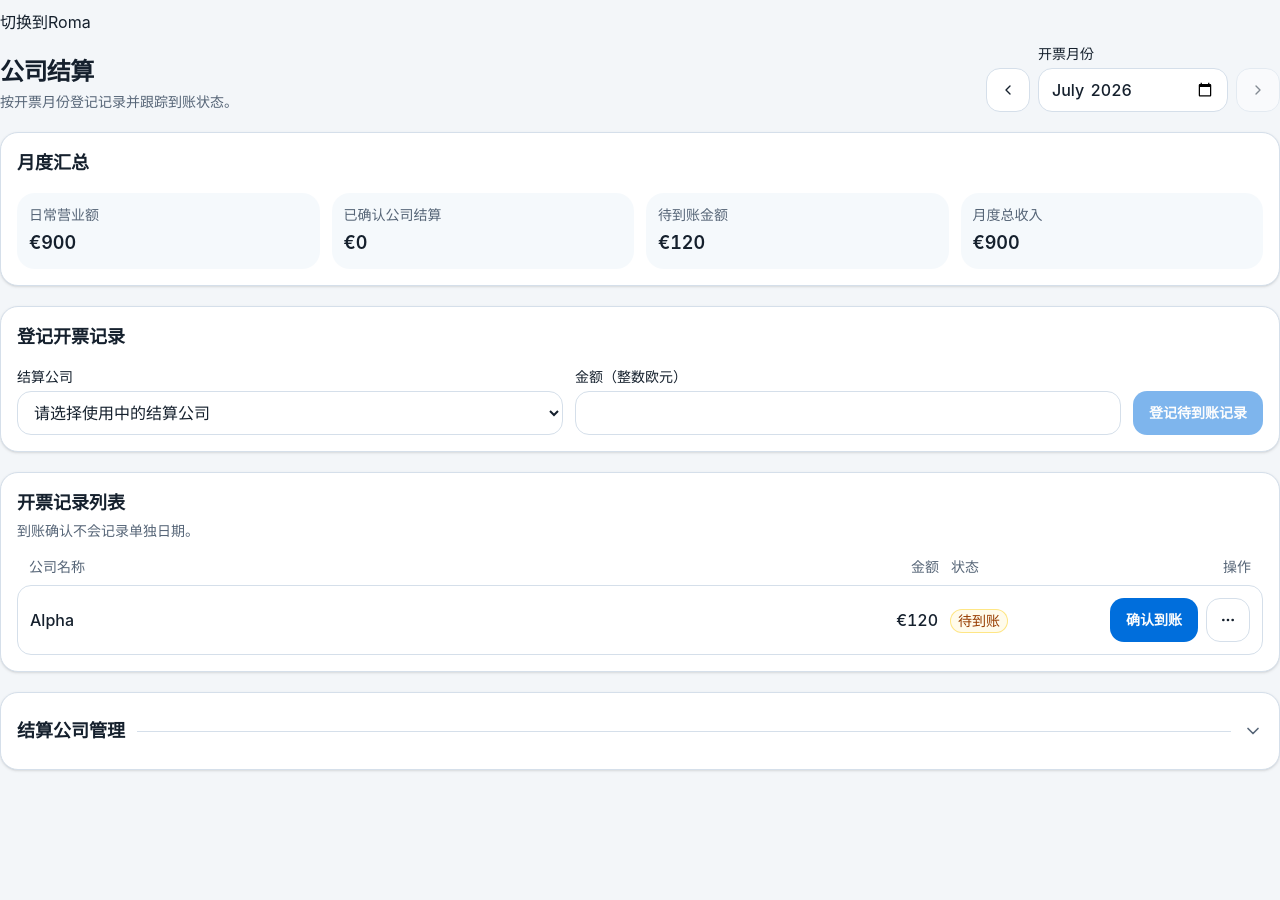
it: CompanySettlementPage record corrections › shows an already-confirmed canonical state for review without retrying confirmation
The width and height of the screenshot is (1280, 900).
Click the button with aria-label "确认Alpha开票记录到账" at (1154, 620), box [1110, 598, 1198, 642]
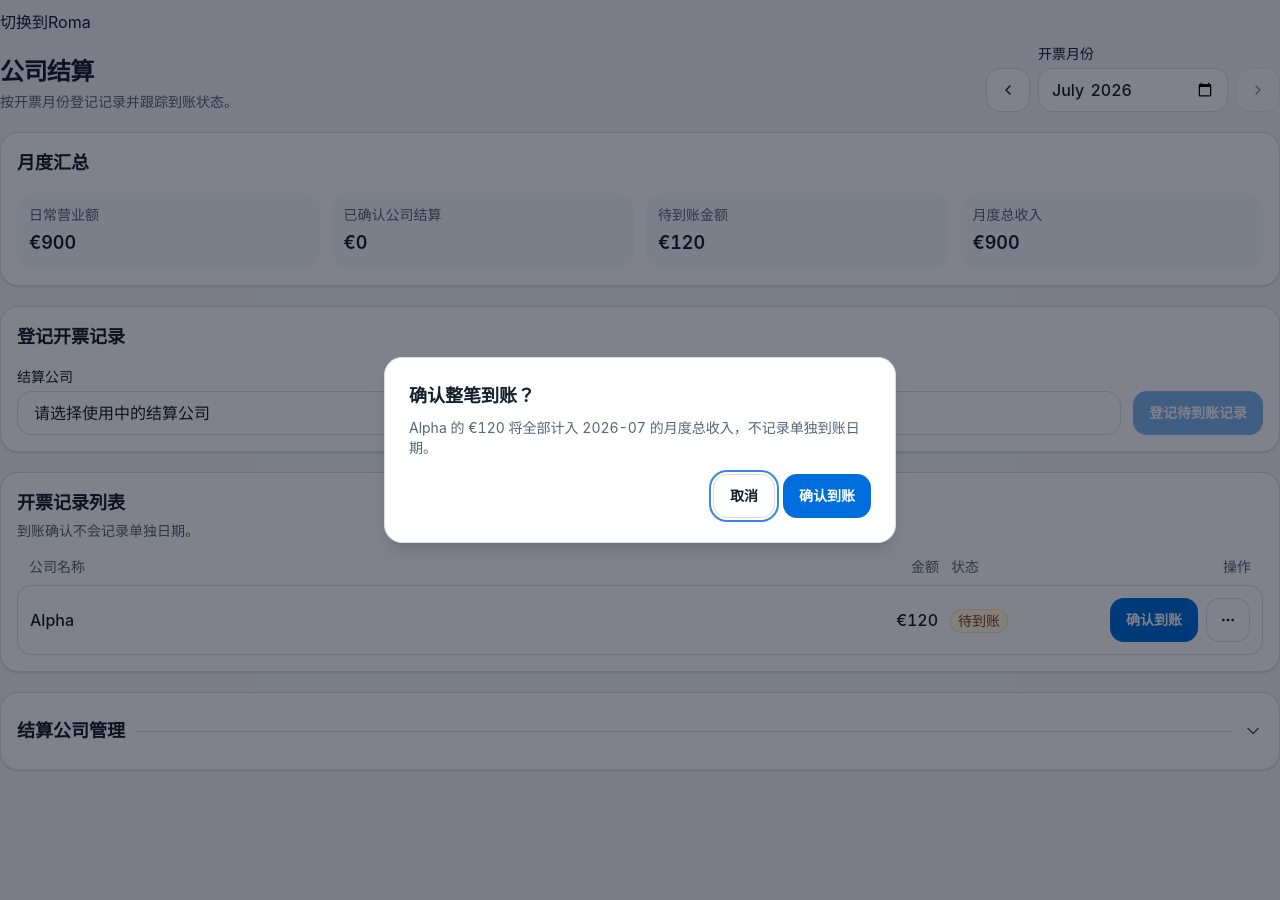
Click the button "确认到账" at (827, 496), box [783, 474, 871, 518]
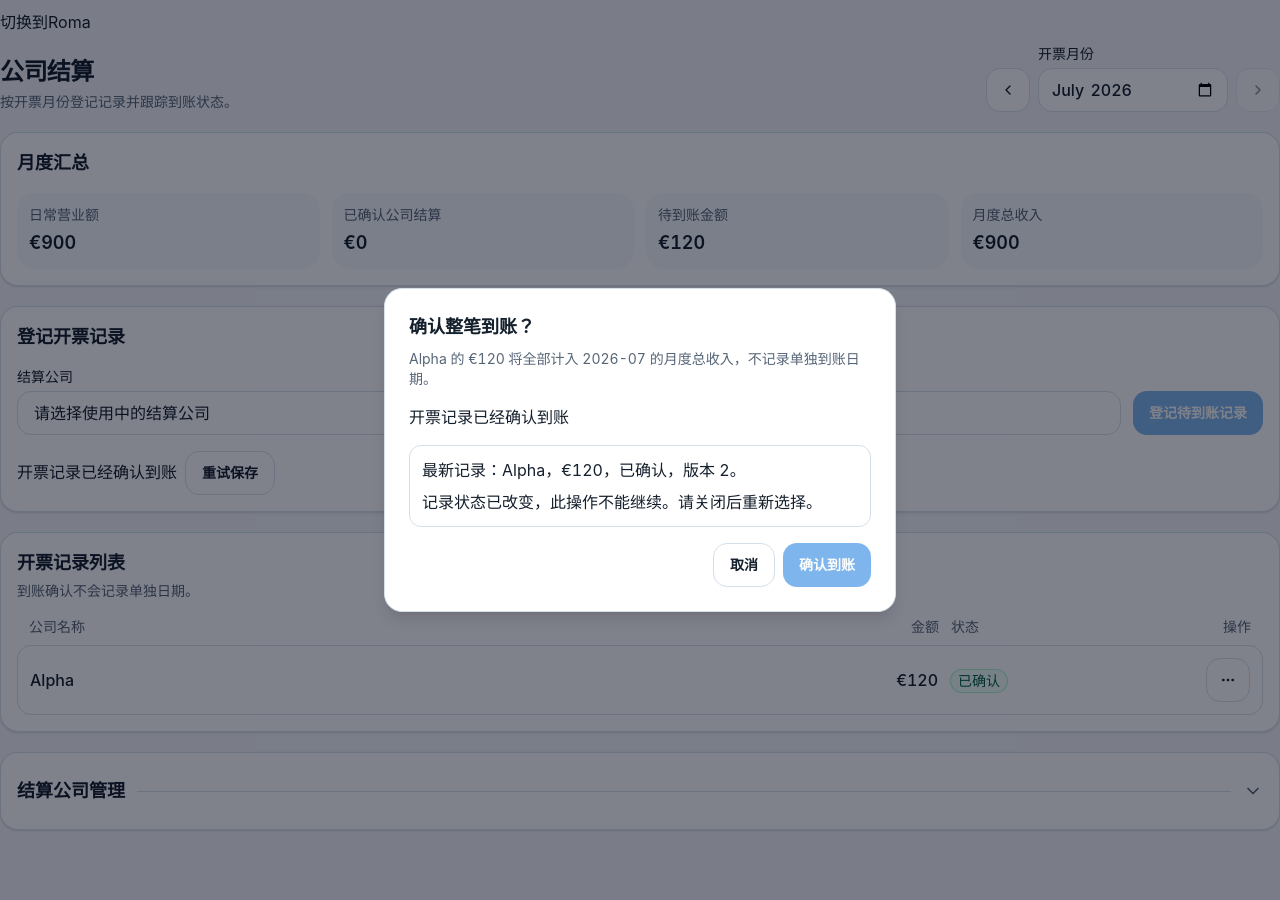
Expected: the element named "冲突最新记录" shows "已确认", [619, 460, 667, 480]
Expected: the button "确认到账" is disabled, [783, 543, 871, 587]
Click the button "取消" at (744, 565), box [713, 543, 775, 587]
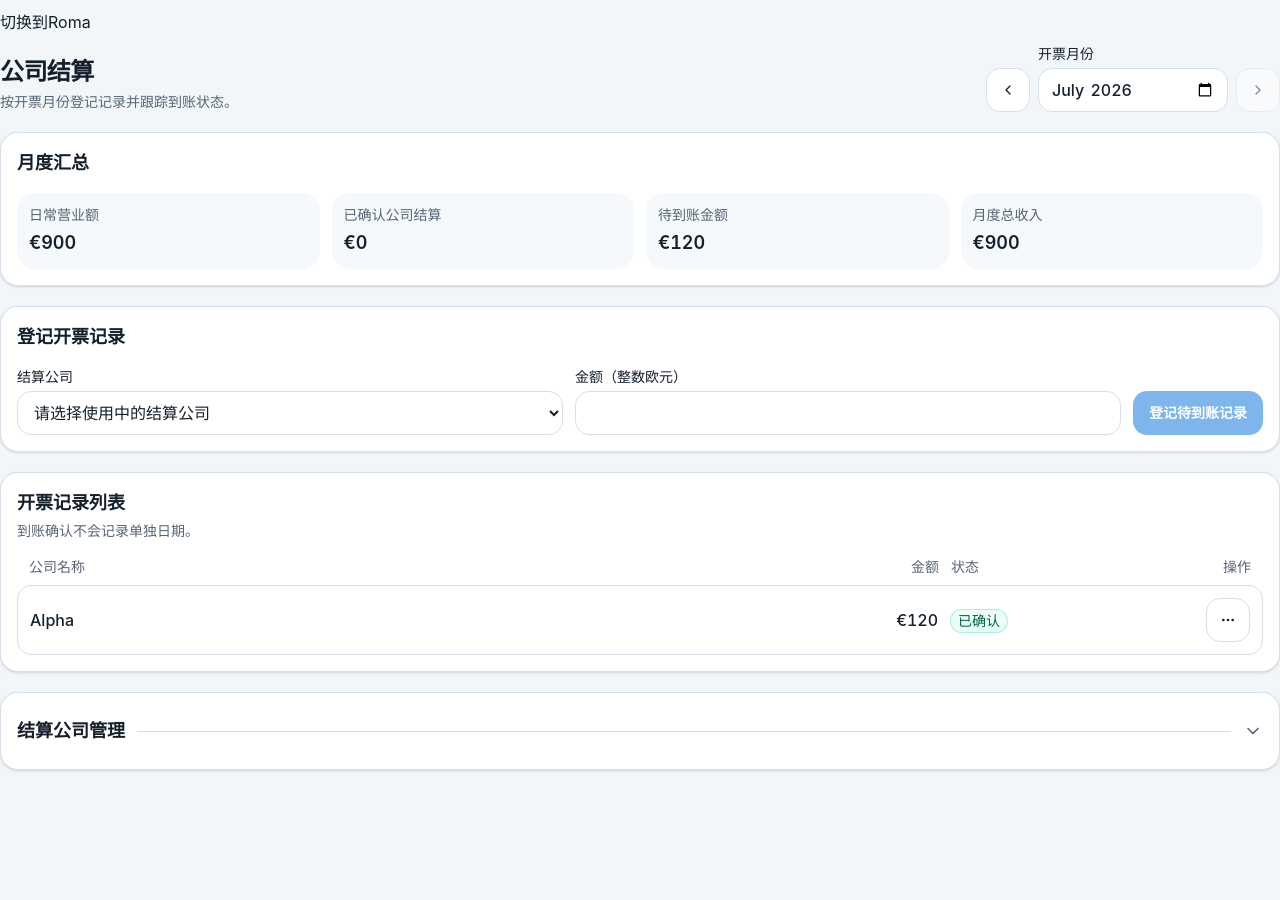
Click the 5th button at (1228, 620), box [1206, 598, 1250, 642]
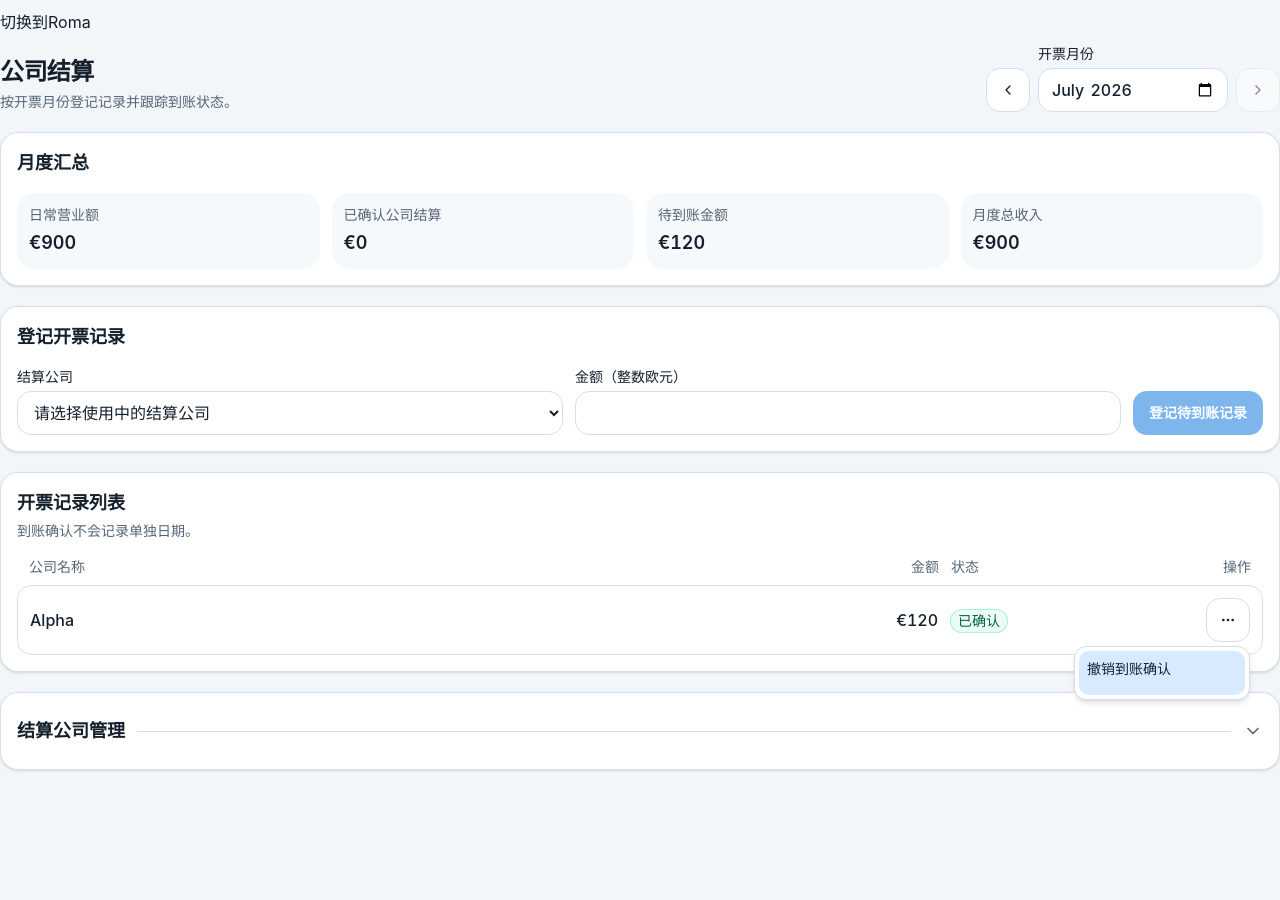
Expected: the menu item with aria-label "撤销Alpha开票记录到账确认" is shown, [1079, 651, 1245, 695]
